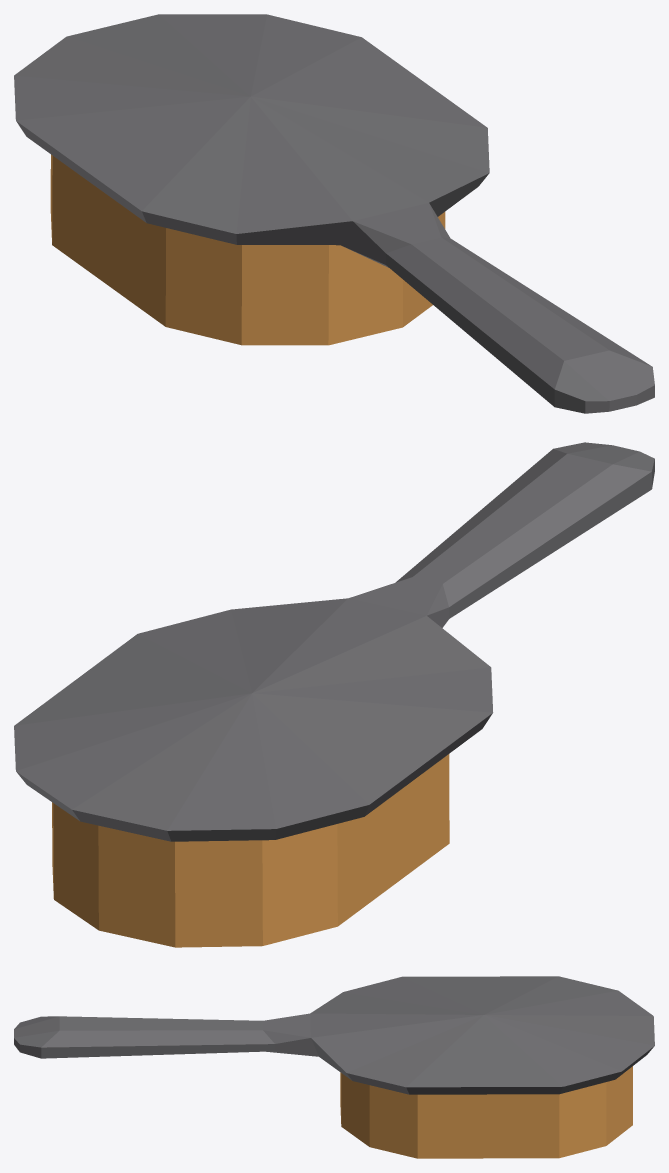
Rendered from brush.fbx.
3 views of the same model, one above another, from view 1: azimuth 30°, elevation 25°; view 2: azimuth 150°, elevation 25°; view 3: azimuth 270°, elevation 25° (orthographic). The views are drawn at different scales.
Visible parts, largest first — view 1: Cylinder; view 2: Cylinder; view 3: Cylinder.
Boxes of the visible parts, x1,y1,x2,y2 form: Cylinder: (14,14,654,413); Cylinder: (14,442,654,947); Cylinder: (14,976,654,1158).
Size of the model in its own units: 194 by 83.98 by 485.
